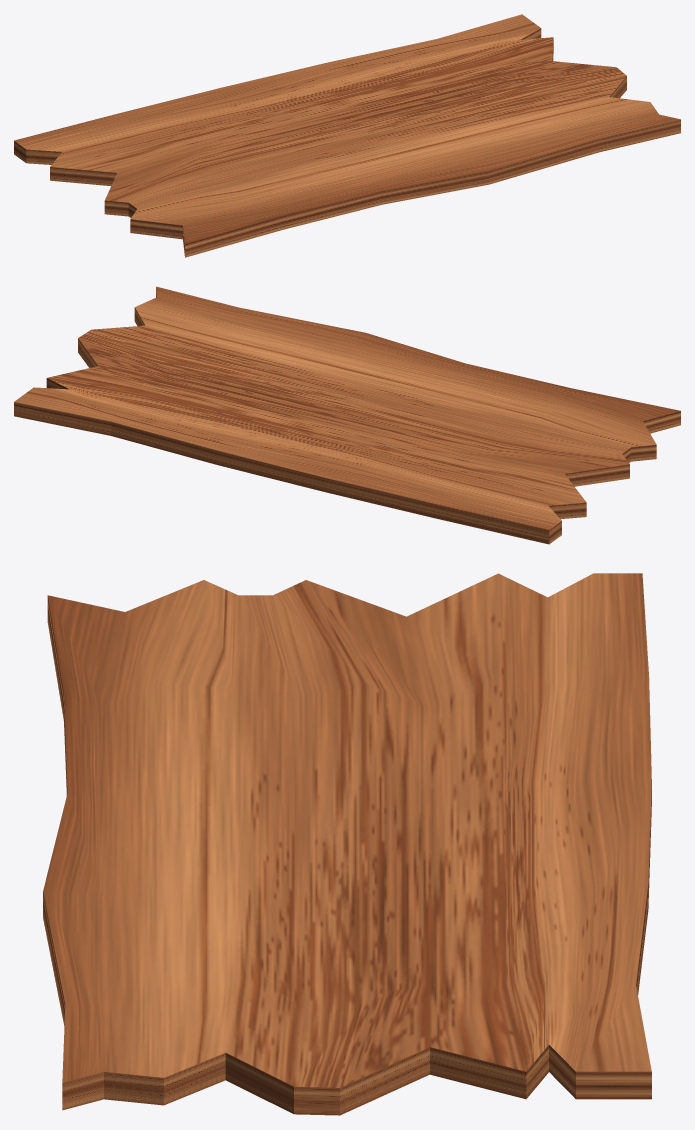
File: Wooden_Board_Broken_Edge_4_0.1_2_Colored.fbx
The picture shows the model from 3 angles, top to bottom: view 1: azimuth 30°, elevation 25°; view 2: azimuth 150°, elevation 25°; view 3: azimuth 270°, elevation 25°; orthographic projection. The views are drawn at different scales.
Parts seen in each view (by area): view 1: Woodern_Board_Broken_Edge_4_0_1_3; view 2: Woodern_Board_Broken_Edge_4_0_1_3; view 3: Woodern_Board_Broken_Edge_4_0_1_3.
Part boxes in pixels (x1,y1,x2,y2): Woodern_Board_Broken_Edge_4_0_1_3: (14, 14, 680, 257); Woodern_Board_Broken_Edge_4_0_1_3: (14, 286, 680, 544); Woodern_Board_Broken_Edge_4_0_1_3: (43, 573, 651, 1115).
Bounding box in the file's own units: 400 × 10 × 200.
1 material, 1 textured.
